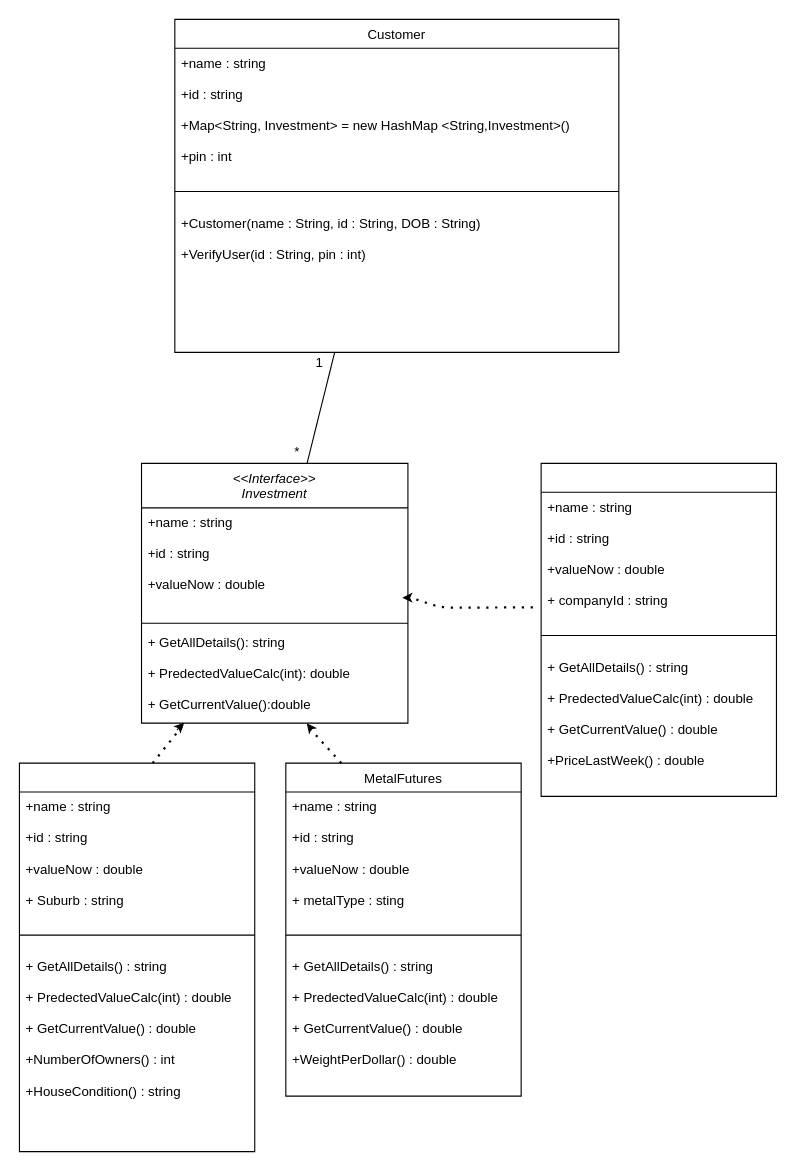
Image size: 796x1174. Some labels were removed from this diagram. The box of each missing label's shape, as (x1, y1, x2, y2) in pixels:
Property: (18, 762, 255, 1152)
Stock: (540, 462, 776, 796)
